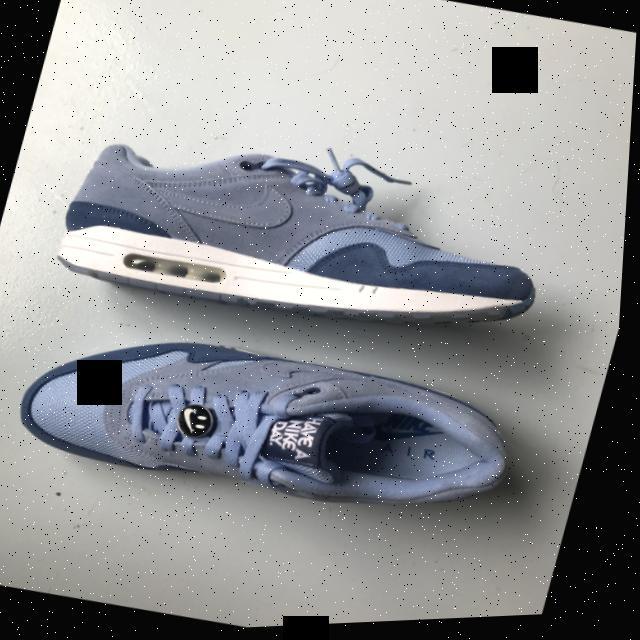shoes: (18, 76, 589, 382), (0, 279, 560, 571)
